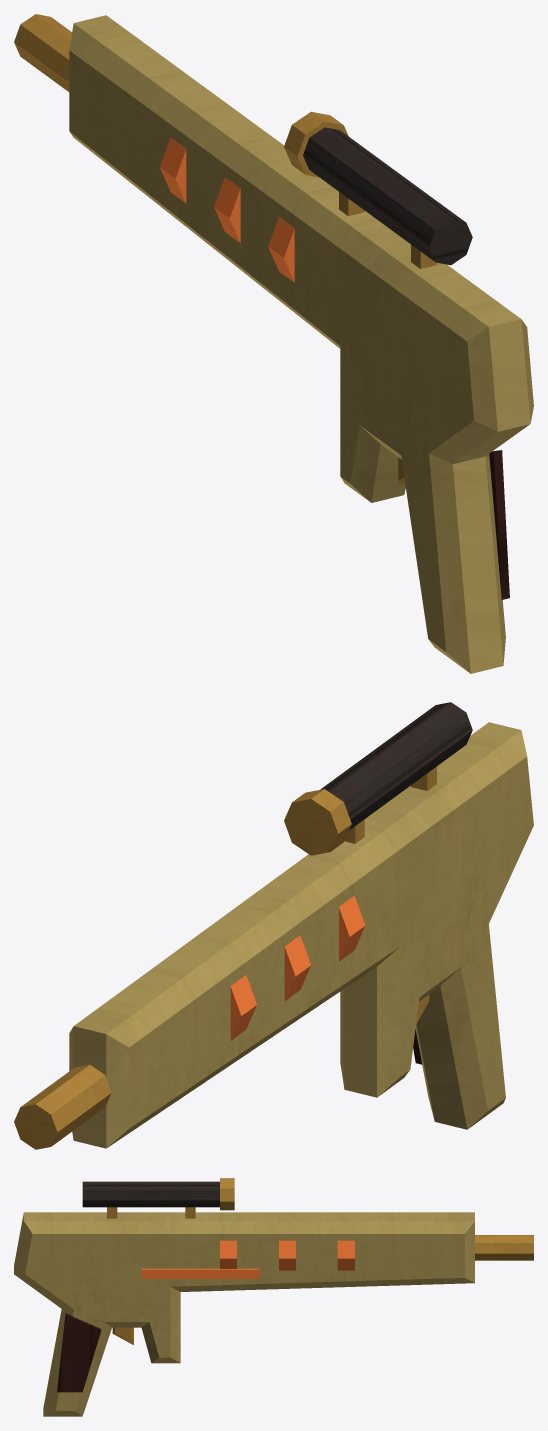
File: wpn_gun_legend.glb
3 views of the same model, one above another, from view 1: azimuth 30°, elevation 25°; view 2: azimuth 150°, elevation 25°; view 3: azimuth 270°, elevation 25° (orthographic). The views are drawn at different scales.
Visible parts, largest first — view 1: wpn_gun_legend; view 2: wpn_gun_legend; view 3: wpn_gun_legend.
Part boxes in pixels (<box>): wpn_gun_legend: <box>14,14,533,673</box>; wpn_gun_legend: <box>14,702,533,1149</box>; wpn_gun_legend: <box>14,1178,533,1416</box>.
Bounding box in the file's own units: 0.06 × 0.3017 × 0.6095.
Materials: 5 (5 with a texture image).
